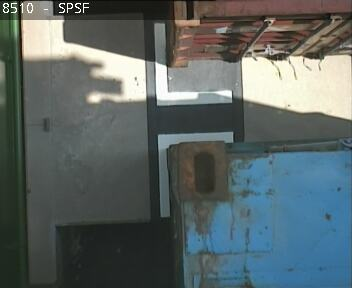groundmarker_1: (152, 21, 234, 219)
